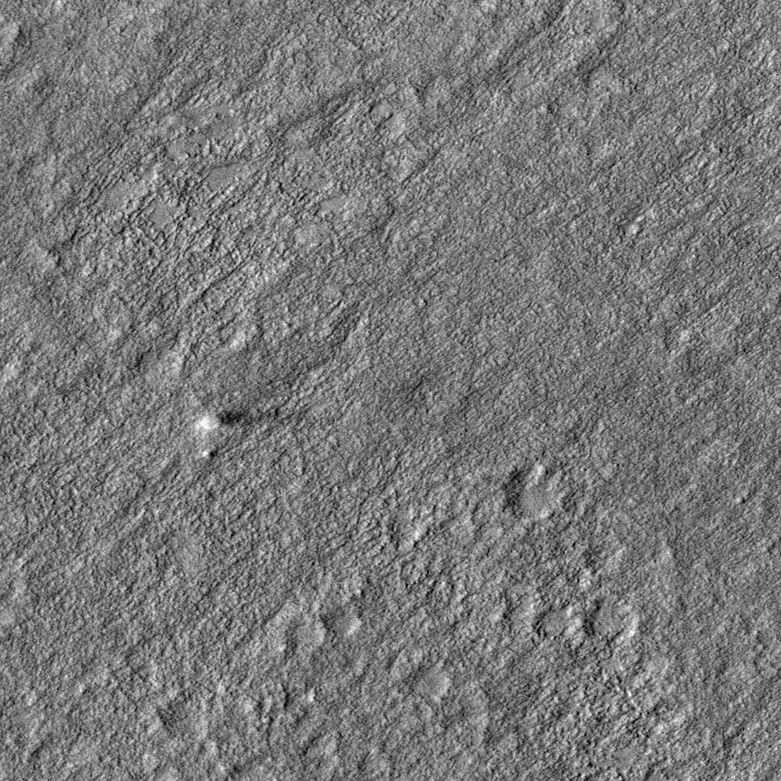dust_devil: (190, 406, 309, 433)
